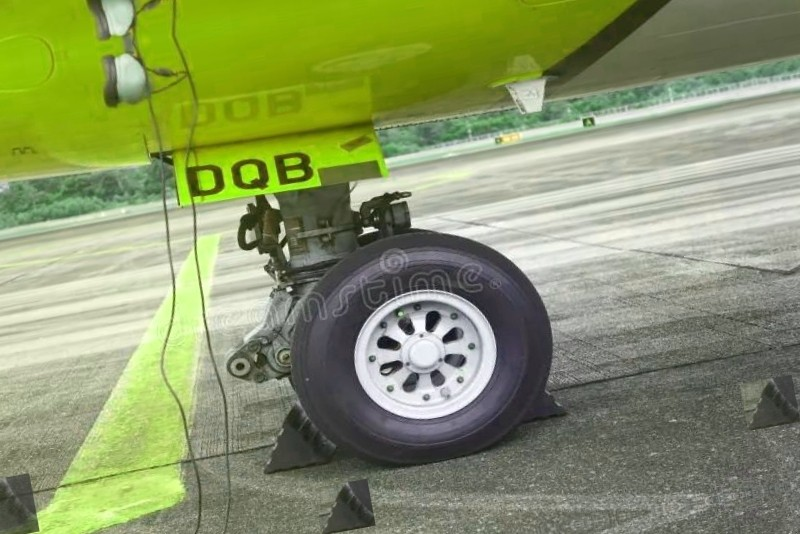chock: (252, 395, 338, 475), (314, 479, 376, 534), (740, 375, 800, 431), (0, 473, 40, 534)
wheel: (263, 208, 567, 484)
